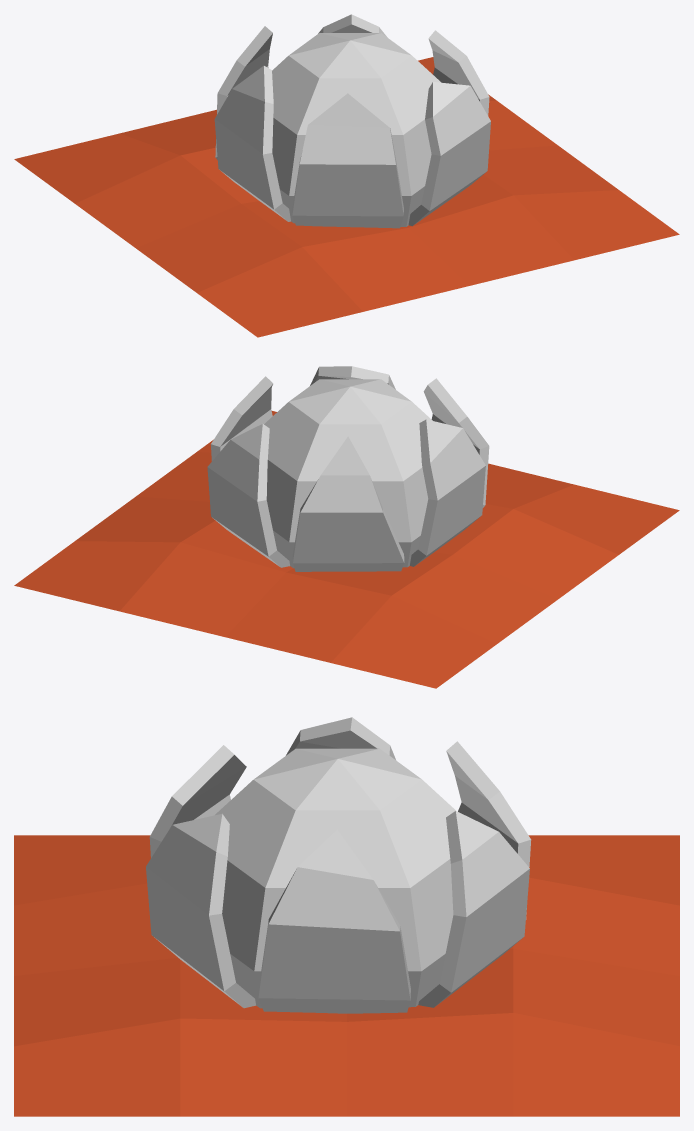
The model's file is lettuce_garden.fbx.
3 renders of one model, top to bottom at view 1: azimuth 30°, elevation 25°; view 2: azimuth 150°, elevation 25°; view 3: azimuth 270°, elevation 25°, orthographic. The views are drawn at different scales.
Parts seen in each view (by area): view 1: ground, lettuce; view 2: ground, lettuce; view 3: ground, lettuce.
Part boxes in pixels (<box>): ground: <box>14,57,679,337</box>; lettuce: <box>214,14,490,228</box>; ground: <box>14,411,679,688</box>; lettuce: <box>207,366,489,571</box>; ground: <box>14,835,679,1116</box>; lettuce: <box>146,717,531,1013</box>.
Size of the model in its own units: 200 by 74.18 by 200.
